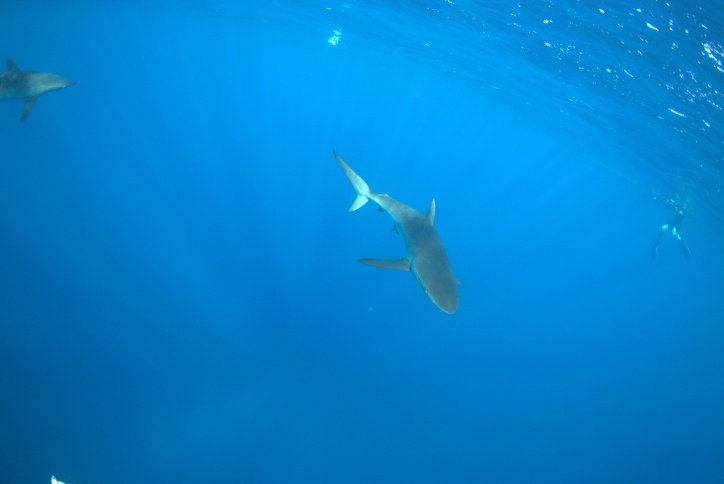Sedoso: (309, 140, 478, 332)
